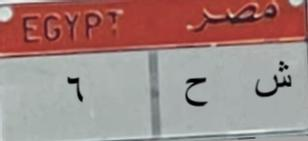6: (62, 70, 87, 108)
7aa: (182, 71, 210, 113)
sheen: (253, 60, 295, 104)
